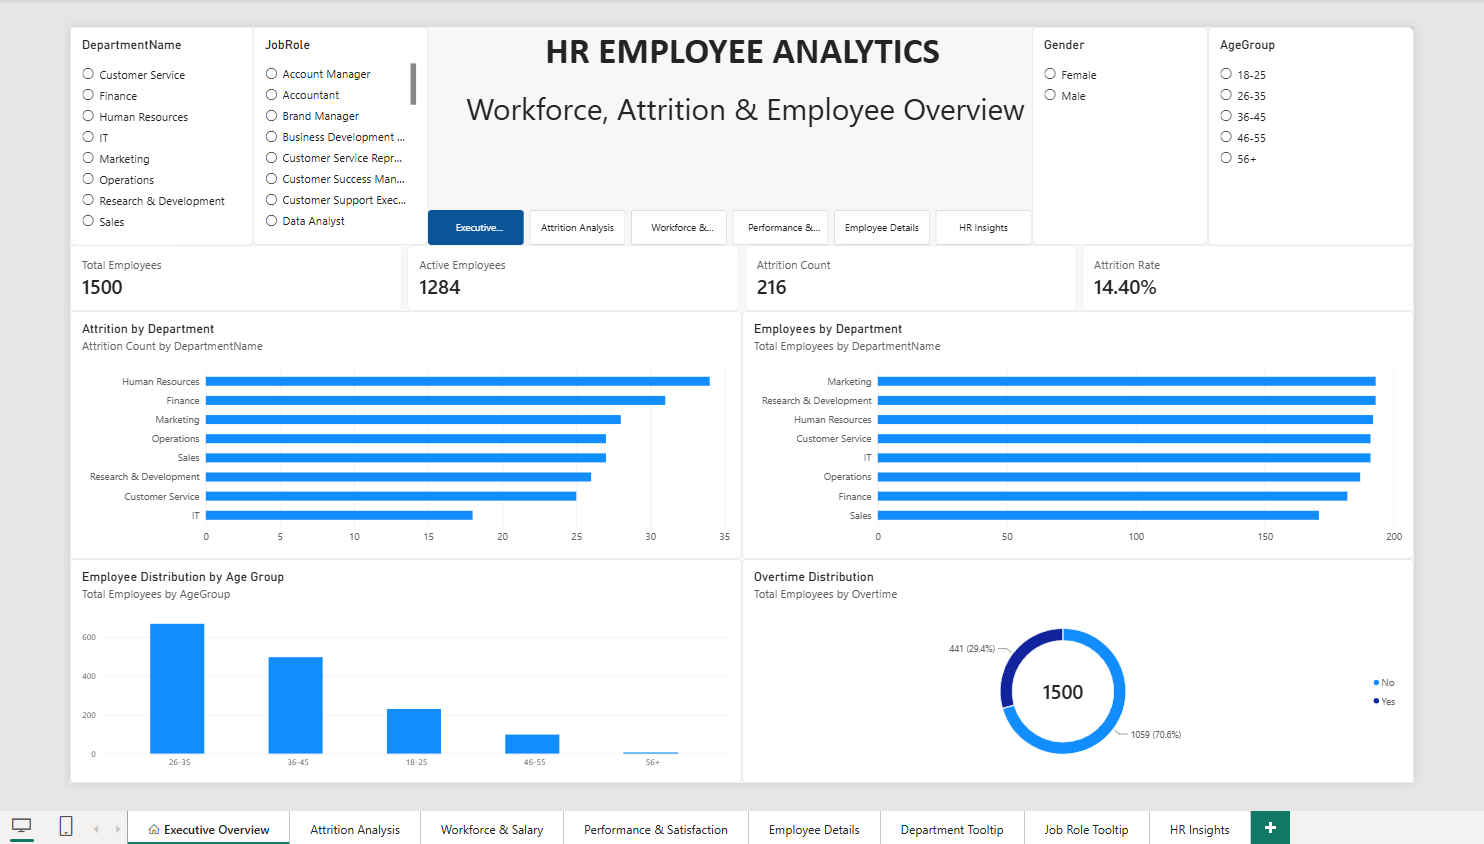

The page's visual inventory and layout, read from the dashboard file:
{"tool":"powerbi","page":{"name":"Executive Overview","canvas":[1920,1080],"ordinal":0},"visuals":[{"type":"textbox","box":[10,0,1910,62.5],"z":0},{"type":"textbox","box":[10,87.5,1910,60],"z":1000},{"type":"cardVisual","fields":{"Data":["FactEmployee.Total Employees","FactEmployee.Active Employees","FactEmployee.Attrition Count","FactEmployee.Attrition Rate"]},"box":[0,312,1920,94],"z":2000},{"type":"clusteredBarChart","title":"Attrition by Department","fields":{"Category":["DimDepartment.DepartmentName"],"Y":["FactEmployee.Attrition Count"]},"box":[0,406,960,354],"z":3000},{"type":"clusteredBarChart","title":"Employees by Department","fields":{"Category":["DimDepartment.DepartmentName"],"Y":["FactEmployee.Total Employees"]},"box":[960,406,960,354],"z":4000},{"type":"clusteredColumnChart","title":"Employee Distribution by Age Group","fields":{"Category":["FactEmployee.AgeGroup"],"Y":["FactEmployee.Total Employees"]},"box":[0,760,960,320],"z":5000},{"type":"donutChart","title":"Overtime Distribution","fields":{"Category":["FactEmployee.Overtime"],"Y":["FactEmployee.Total Employees"]},"box":[960,760,960,320],"z":6000},{"type":"listSlicer","fields":{"Values":["DimDepartment.DepartmentName"]},"box":[0,0,262,312],"z":7000},{"type":"listSlicer","fields":{"Values":["DimJobRole.JobRole"]},"box":[261.4,0,250,311.4],"z":8000},{"type":"listSlicer","fields":{"Values":["FactEmployee.Gender"]},"box":[1374.3,0,251.4,311.4],"z":9000},{"type":"listSlicer","fields":{"Values":["FactEmployee.AgeGroup"]},"box":[1626,0,294,312],"z":10000},{"type":"pageNavigator","box":[511.4,261.4,862.9,50],"z":11000}]}

Visuals, with their boxes on the page's 1920x1080 design canvas (x1, y1, x2, y2). These are canvas units, not pixel positions in the 1484x844 screenshot, which may show the page scaled, cropped or inside an application window:
textbox: (left=10, top=0, right=1920, bottom=62)
textbox: (left=10, top=88, right=1920, bottom=148)
cardVisual - FactEmployee.Total Employees x FactEmployee.Active Employees: (left=0, top=312, right=1920, bottom=406)
"Attrition by Department" clusteredBarChart: (left=0, top=406, right=960, bottom=760)
"Employees by Department" clusteredBarChart: (left=960, top=406, right=1920, bottom=760)
"Employee Distribution by Age Group" clusteredColumnChart: (left=0, top=760, right=960, bottom=1080)
"Overtime Distribution" donutChart: (left=960, top=760, right=1920, bottom=1080)
listSlicer - DimDepartment.DepartmentName: (left=0, top=0, right=262, bottom=312)
listSlicer - DimJobRole.JobRole: (left=261, top=0, right=511, bottom=311)
listSlicer - FactEmployee.Gender: (left=1374, top=0, right=1626, bottom=311)
listSlicer - FactEmployee.AgeGroup: (left=1626, top=0, right=1920, bottom=312)
pageNavigator: (left=511, top=261, right=1374, bottom=311)
